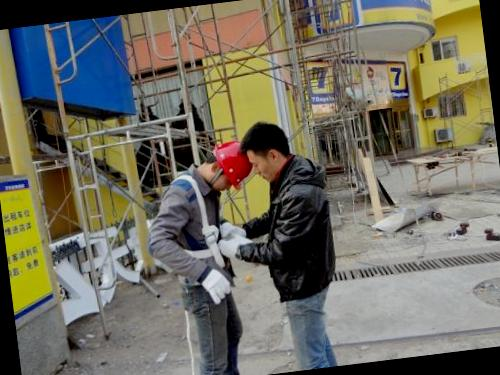no_helmet: (239, 114, 300, 189)
